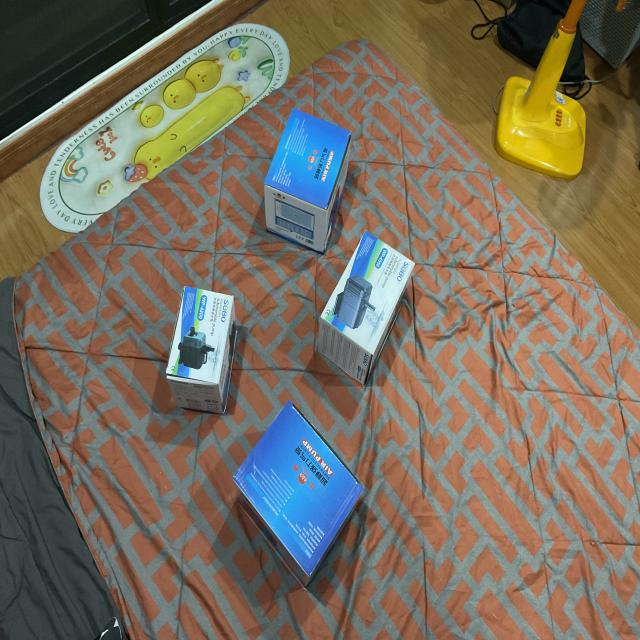SOBO_WP_4200: (307, 226, 448, 412), (152, 272, 247, 424)
YAMANO_LPP_20: (227, 391, 379, 599), (255, 90, 362, 263)
